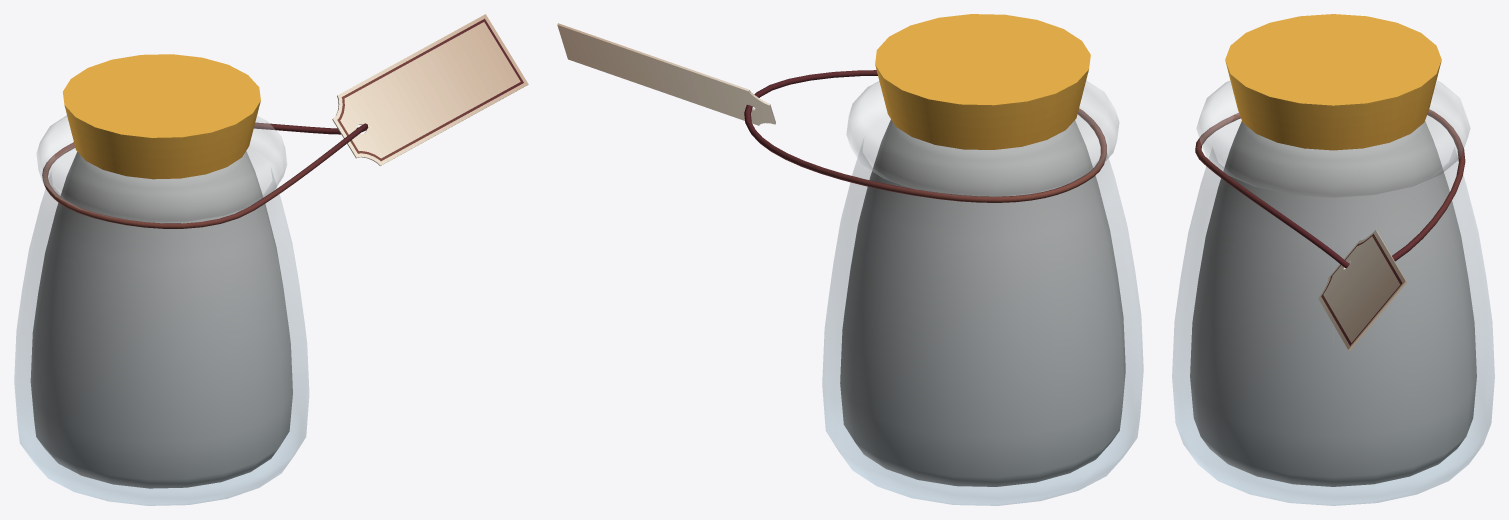
The model's file is sleepPotion.fbx.
3 renders of one model, left to right at view 1: azimuth 30°, elevation 25°; view 2: azimuth 150°, elevation 25°; view 3: azimuth 270°, elevation 25°, orthographic. The views are drawn at different scales.
Parts seen in each view (by area): view 1: sleepPotion, sleepPotionFill; view 2: sleepPotion, sleepPotionFill; view 3: sleepPotion, sleepPotionFill.
Boxes of the visible parts, bbox=[...] form: sleepPotion: bbox=[14, 14, 528, 505]; sleepPotionFill: bbox=[30, 151, 292, 488]; sleepPotion: bbox=[557, 14, 1143, 505]; sleepPotionFill: bbox=[840, 119, 1125, 486]; sleepPotion: bbox=[1172, 14, 1494, 505]; sleepPotionFill: bbox=[1190, 121, 1476, 486].
Size of the model in its own units: 0.5518 by 0.3816 by 0.2825.
